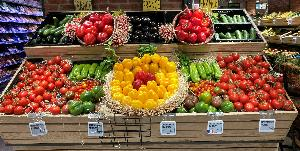bell_pepper: (107, 60, 185, 116), (76, 9, 112, 45), (176, 6, 212, 42), (186, 56, 222, 80), (66, 58, 106, 78)
eggplant: (131, 12, 159, 42)
radish: (112, 11, 130, 47), (157, 14, 173, 40)
tomato: (0, 57, 68, 117), (224, 57, 290, 117), (182, 94, 232, 114), (66, 80, 102, 102), (54, 92, 82, 116), (192, 78, 230, 95)
zucchini: (27, 8, 69, 48), (215, 27, 260, 46), (209, 11, 249, 24)
